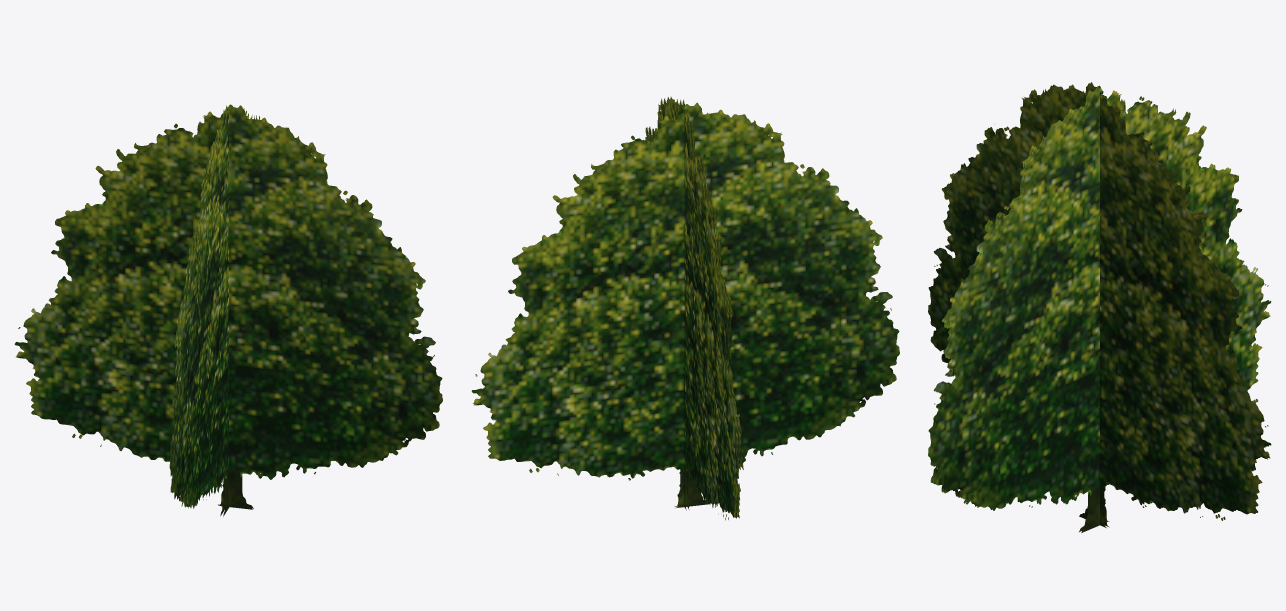
File: tree113.fbx
3 renders of one model, left to right at view 1: azimuth 30°, elevation 25°; view 2: azimuth 150°, elevation 25°; view 3: azimuth 270°, elevation 25°, orthographic. The views are drawn at different scales.
Parts seen in each view (by area): view 1: tree113; view 2: tree113; view 3: tree113.
Part boxes in pixels (bbox=[...]): tree113: bbox=[14, 104, 442, 516]; tree113: bbox=[471, 97, 899, 520]; tree113: bbox=[928, 82, 1271, 532].
Bounding box in the file's own units: 278 × 400 × 278.
Materials: 1 (1 with a texture image).
